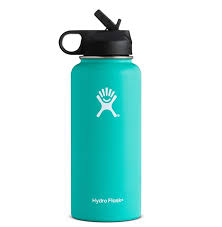bottle: (57, 7, 146, 224)
